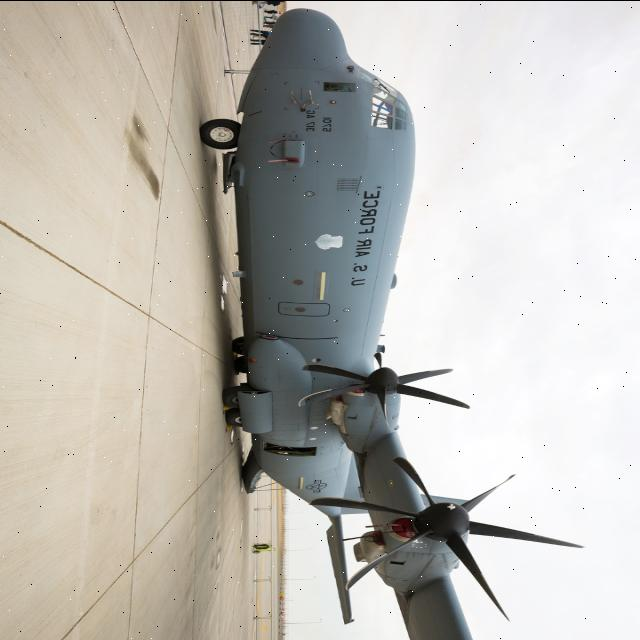C130: (145, 0, 602, 638)
